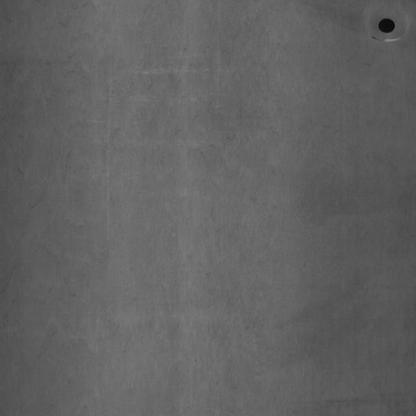punching_hole: (377, 11, 399, 37)
silk_spot: (143, 15, 260, 352), (6, 29, 103, 371)
